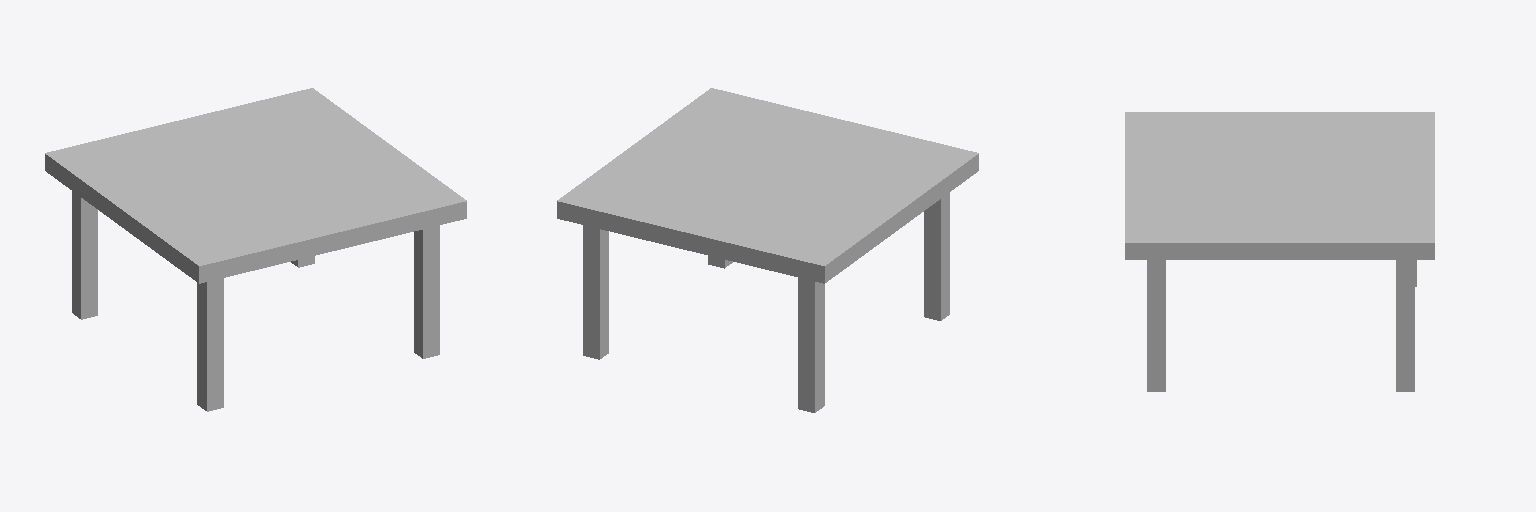
The model's file is table.obj.
3 views of the same model, side by side, from view 1: azimuth 30°, elevation 25°; view 2: azimuth 150°, elevation 25°; view 3: azimuth 270°, elevation 25° (orthographic).
Visible parts, largest first — view 1: cube; view 2: cube; view 3: cube.
Boxes of the visible parts, x1,y1,x2,y2 form: cube: [45, 88, 466, 411]; cube: [557, 88, 978, 412]; cube: [1125, 112, 1434, 391].
Bounding box in the file's own units: 1 × 0.5625 × 1.